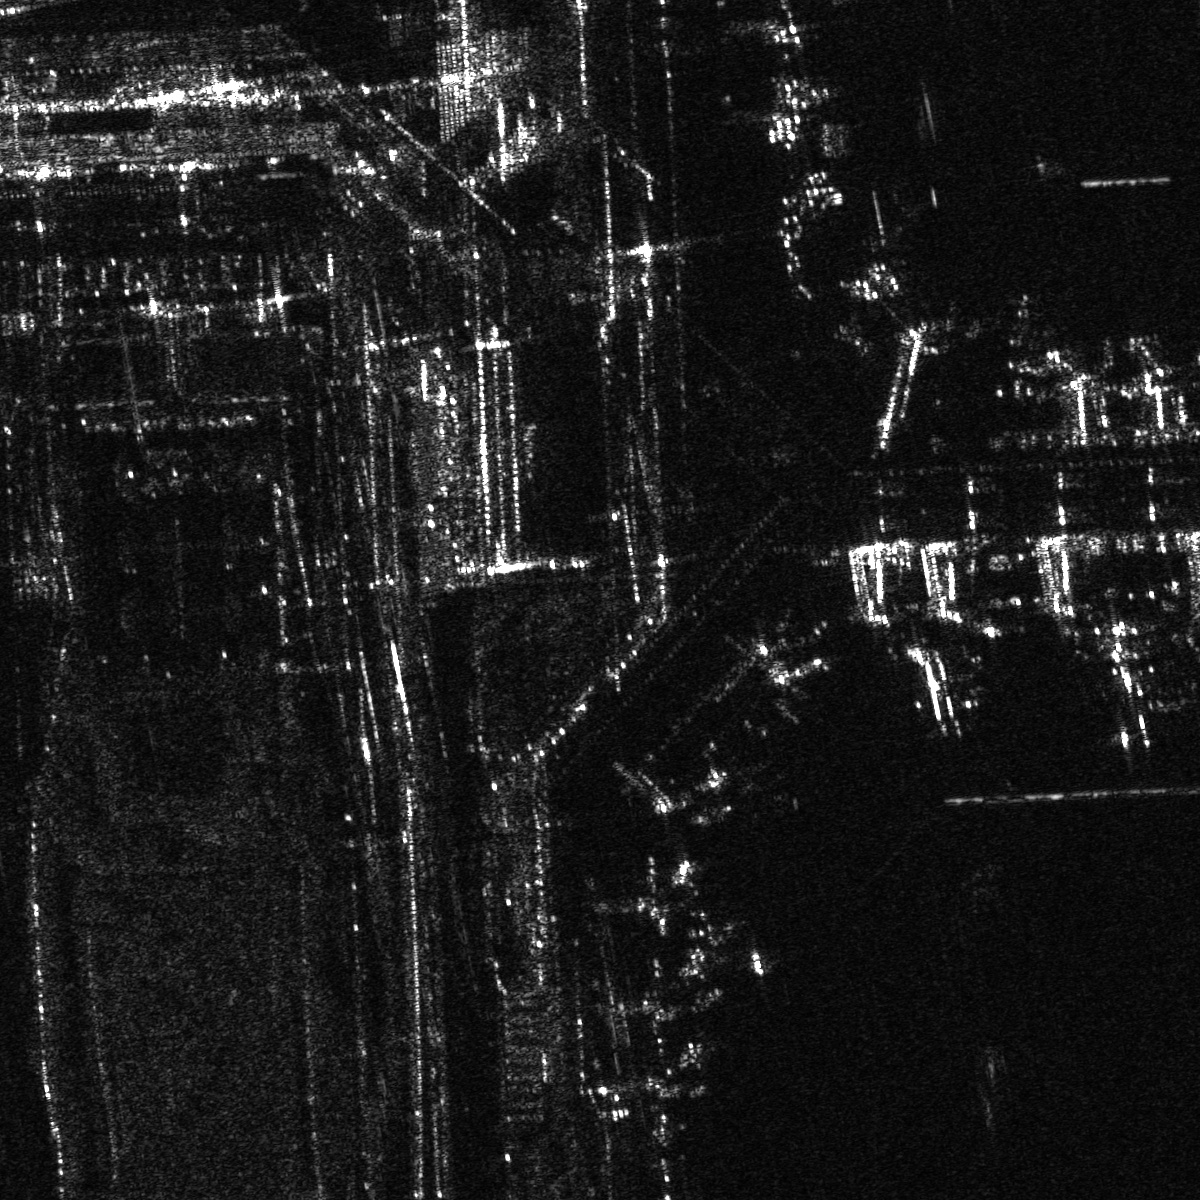A220: (889, 638, 985, 741)
A320/321: (629, 766, 742, 860)
Boeing737: (743, 638, 834, 710)
Boeing787: (1058, 615, 1166, 748)
